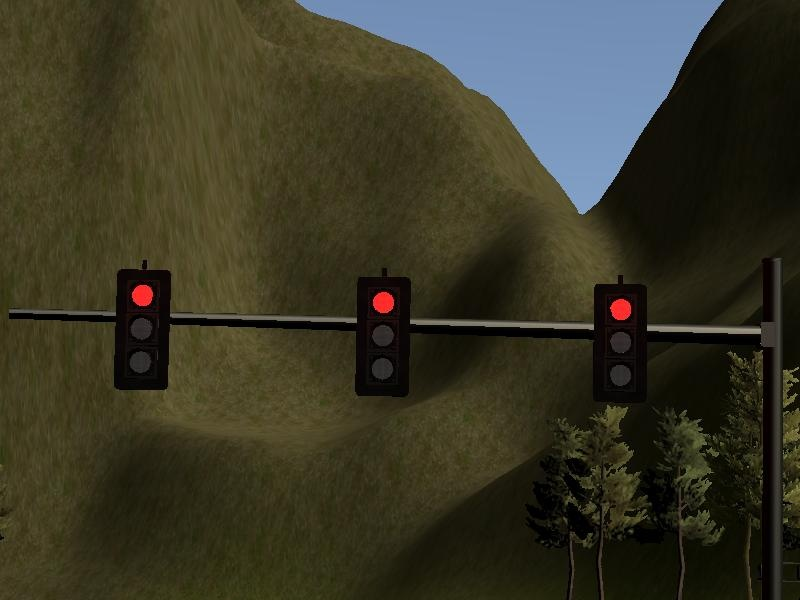RED: (114, 270, 170, 390), (353, 274, 409, 394), (591, 283, 647, 403)
